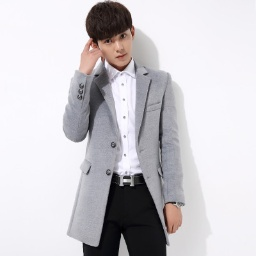face: (86, 1, 137, 68)
